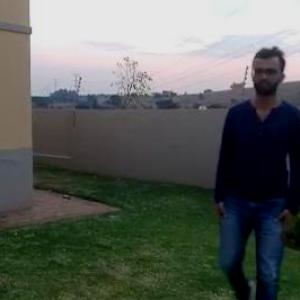follow: (203, 42, 289, 299)
